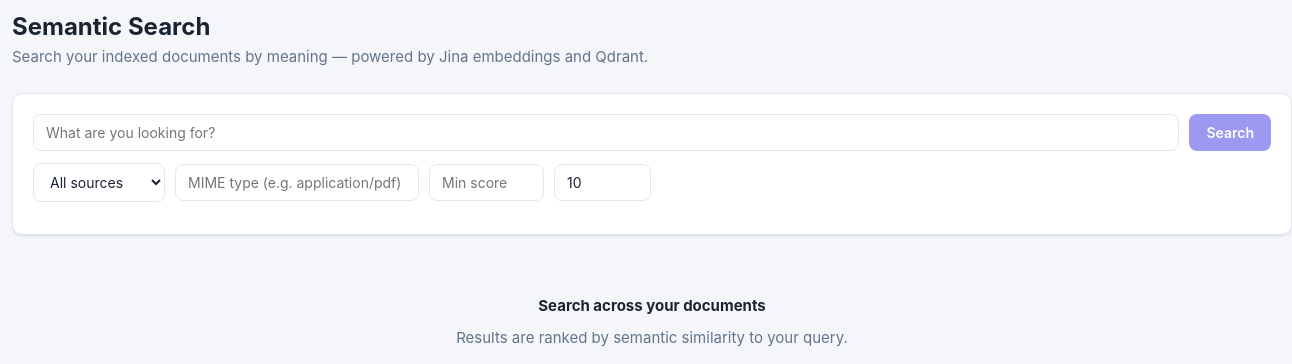
Test: SearchPage › shows the empty-results state
This screenshot has width=1292, height=364.
Type "nothing" into the search field named "search query" at (606, 132), box left=33, top=114, right=1180, bottom=150
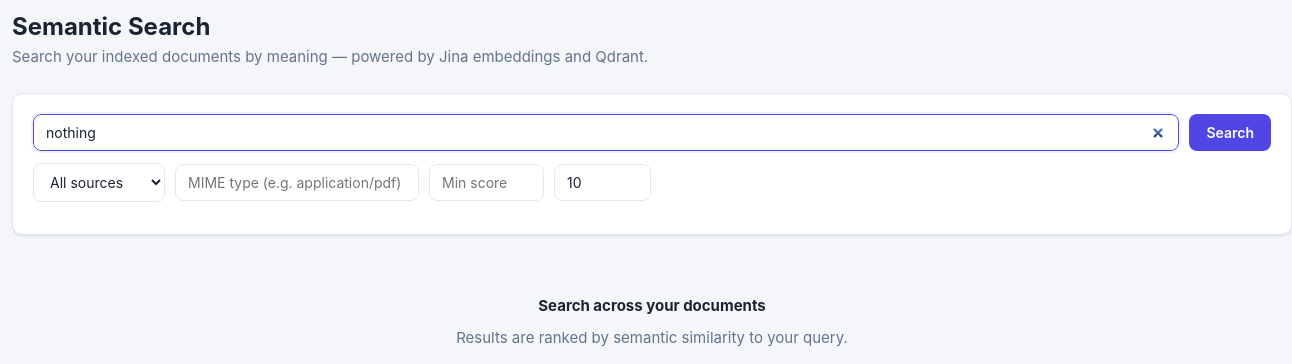
Click the button "Search" at (1230, 132), box left=1190, top=114, right=1271, bottom=150
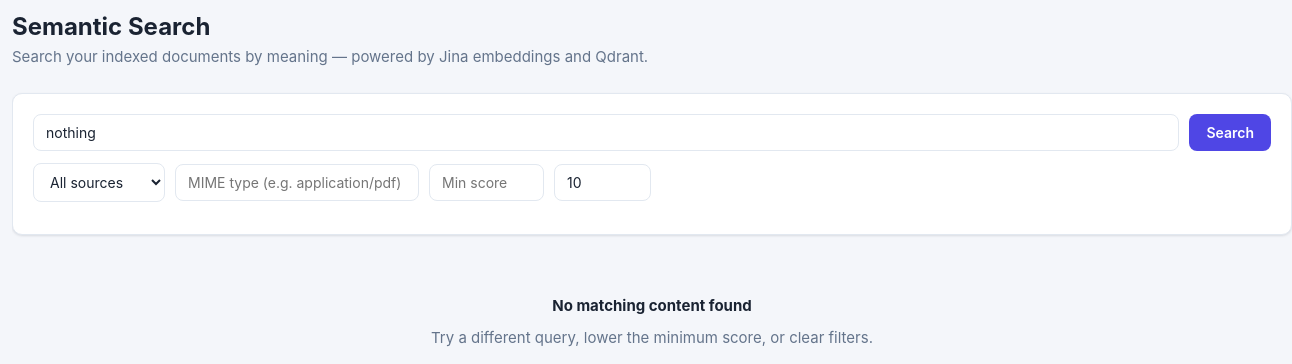
Result: the text "No matching content found" is shown at left=552, top=294, right=752, bottom=317
